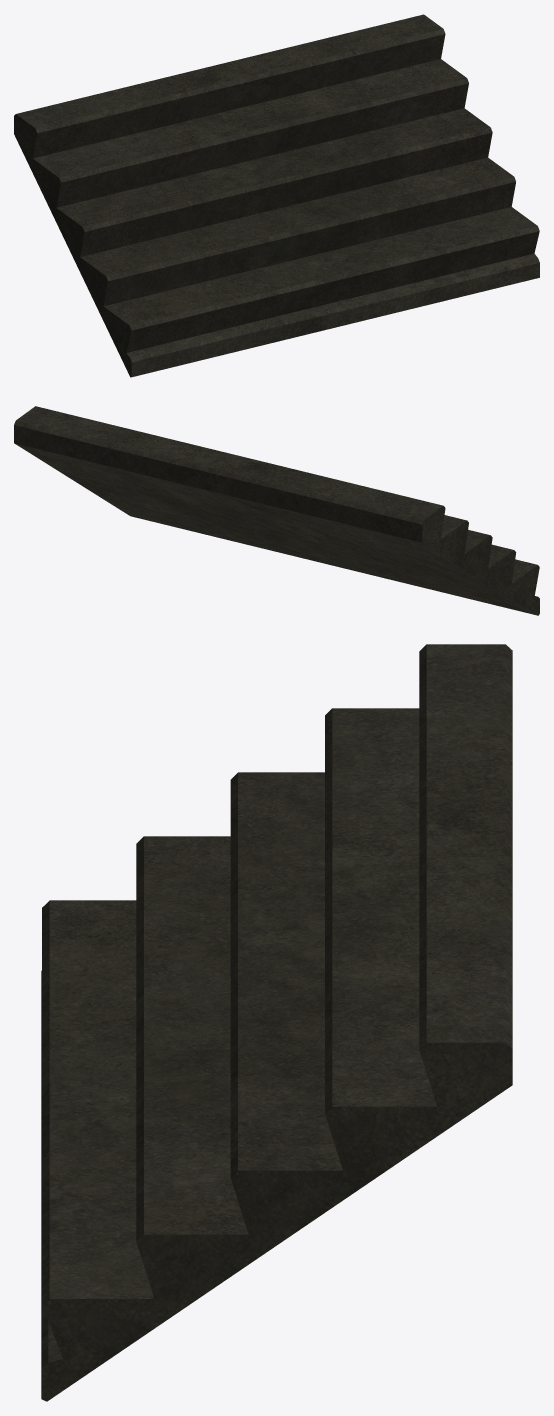
The model's file is stairs_3.fbx.
3 views of the same model, one above another, from view 1: azimuth 30°, elevation 25°; view 2: azimuth 150°, elevation 25°; view 3: azimuth 270°, elevation 25° (orthographic). The views are drawn at different scales.
Visible parts, largest first — view 1: stairs_3; view 2: stairs_3; view 3: stairs_3.
Boxes of the visible parts, left/top/right/bottom form: stairs_3: left=14, top=14, right=539, bottom=377; stairs_3: left=14, top=406, right=539, bottom=615; stairs_3: left=41, top=644, right=512, bottom=1401.
Bounding box in the file's own units: 4 × 2 × 1.68.
